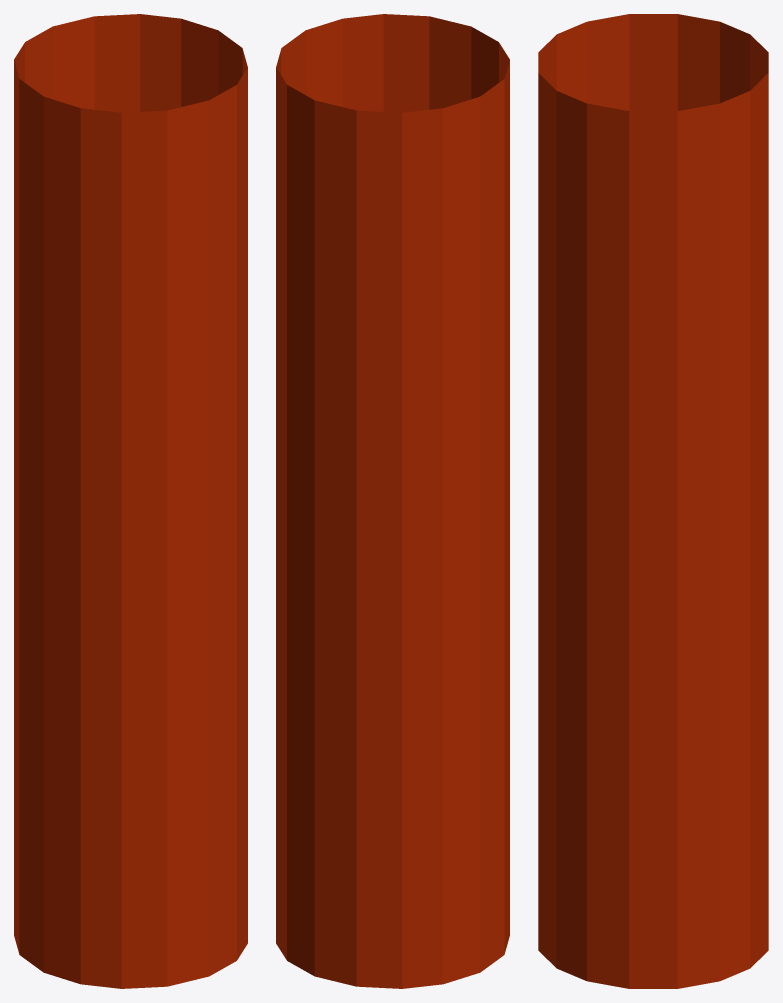
Rendered from original-4.obj.
3 renders of one model, left to right at view 1: azimuth 30°, elevation 25°; view 2: azimuth 150°, elevation 25°; view 3: azimuth 270°, elevation 25°, orthographic.
Parts seen in each view (by area): view 1: mesh3/mesh3-geometry#mesh3-geometry; view 2: mesh3/mesh3-geometry#mesh3-geometry; view 3: mesh3/mesh3-geometry#mesh3-geometry.
Part boxes in pixels (x1,y1,x2,y2): mesh3/mesh3-geometry#mesh3-geometry: (14, 14, 247, 988); mesh3/mesh3-geometry#mesh3-geometry: (276, 14, 509, 988); mesh3/mesh3-geometry#mesh3-geometry: (538, 14, 768, 988).
Size of the model in its own units: 0.0497 by 0.2092 by 0.0497.
